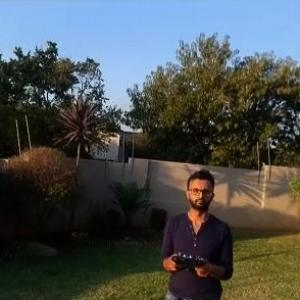follow: (153, 160, 238, 299)
